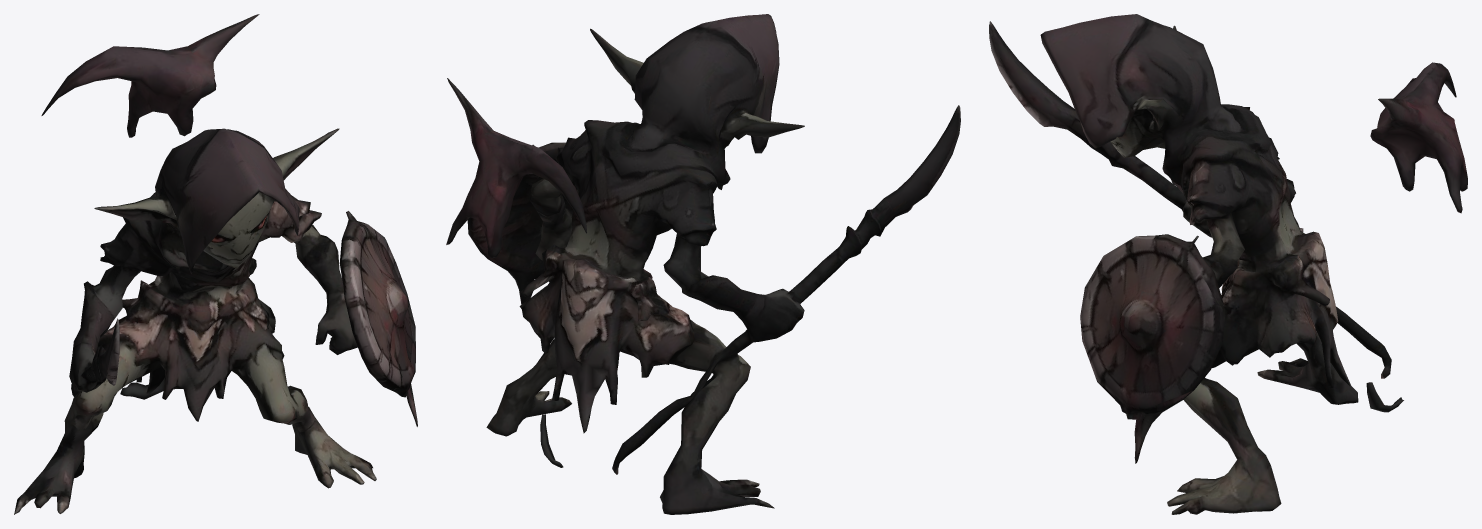
3 renders of one model, left to right at view 1: azimuth 30°, elevation 25°; view 2: azimuth 150°, elevation 25°; view 3: azimuth 270°, elevation 25°, orthographic. The views are drawn at different scales.
Parts seen in each view (by area): view 1: tripo_node_d95356cd-7bb7-4315-85ce-454db3a98c30; view 2: tripo_node_d95356cd-7bb7-4315-85ce-454db3a98c30; view 3: tripo_node_d95356cd-7bb7-4315-85ce-454db3a98c30.
Part boxes in pixels (bbox=[...]): tripo_node_d95356cd-7bb7-4315-85ce-454db3a98c30: bbox=[14, 14, 417, 514]; tripo_node_d95356cd-7bb7-4315-85ce-454db3a98c30: bbox=[446, 14, 960, 514]; tripo_node_d95356cd-7bb7-4315-85ce-454db3a98c30: bbox=[989, 14, 1467, 514].
Size of the model in its own units: 0.944 by 0.9316 by 0.9668.
Materials: 1 (1 with a texture image).
